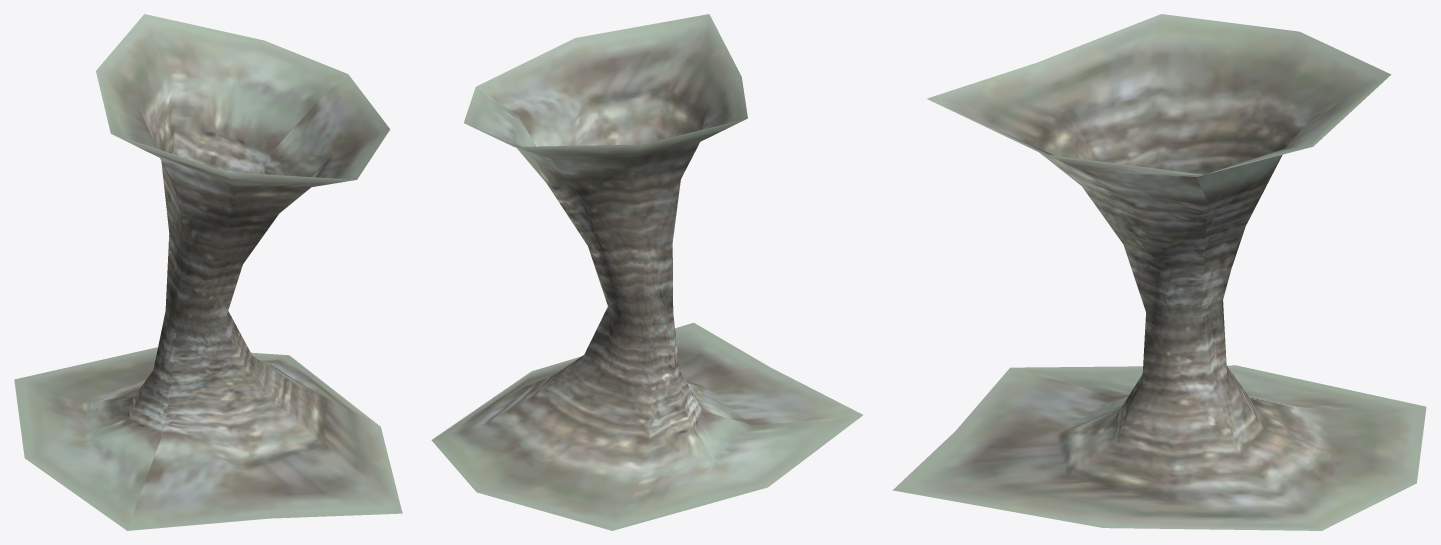
File: TROLLHOLE02_PS-SECRETSTALAG43.fbx
3 renders of one model, left to right at view 1: azimuth 30°, elevation 25°; view 2: azimuth 150°, elevation 25°; view 3: azimuth 270°, elevation 25°, orthographic. The views are drawn at different scales.
Visible parts, largest first — view 1: TROLLHOLE02_PS-SECRETSTALAG43; view 2: TROLLHOLE02_PS-SECRETSTALAG43; view 3: TROLLHOLE02_PS-SECRETSTALAG43.
Part boxes in pixels (bbox=[...]): TROLLHOLE02_PS-SECRETSTALAG43: bbox=[14, 14, 402, 530]; TROLLHOLE02_PS-SECRETSTALAG43: bbox=[431, 14, 862, 530]; TROLLHOLE02_PS-SECRETSTALAG43: bbox=[893, 14, 1426, 530].
Bounding box in the file's own units: 36175 × 38963 × 47671.
1 material, 1 textured.
